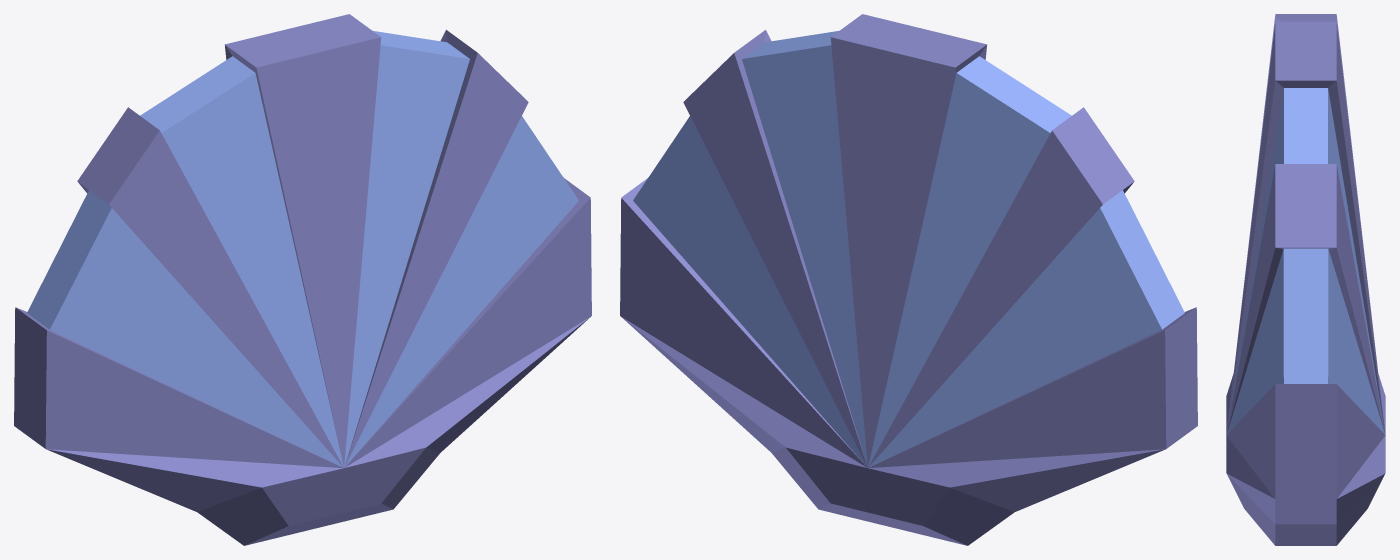
The model's file is Seashell 2 PINK.fbx.
The picture shows the model from 3 angles, left to right: view 1: azimuth 30°, elevation 25°; view 2: azimuth 150°, elevation 25°; view 3: azimuth 270°, elevation 25°; orthographic projection. The views are drawn at different scales.
Visible parts, largest first — view 1: Object001; view 2: Object001; view 3: Object001.
Part boxes in pixels (x1,y1,x2,y2): Object001: (14, 14, 591, 545); Object001: (620, 14, 1197, 545); Object001: (1226, 14, 1385, 545).
Size of the model in its own units: 33.15 by 27.56 by 8.65.
Materials: 1 (1 with a texture image).
